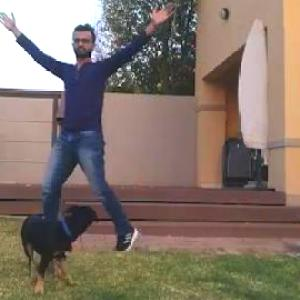takeoff: (0, 0, 185, 261)
